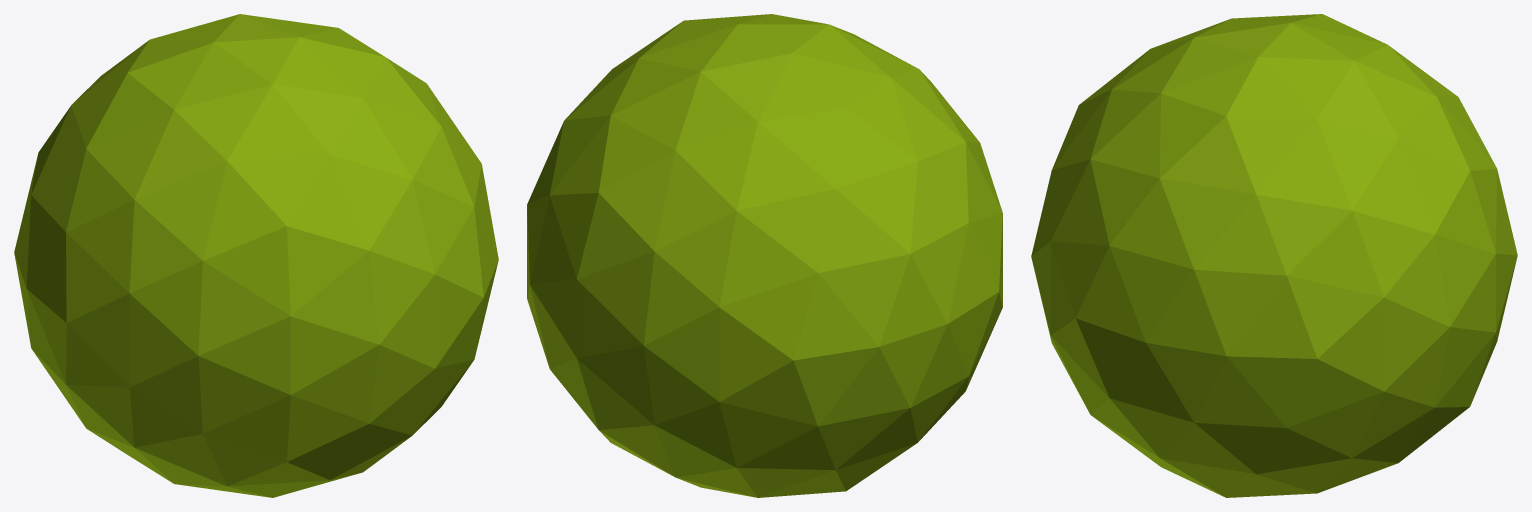
Rendered from bullet.obj.
3 renders of one model, left to right at view 1: azimuth 30°, elevation 25°; view 2: azimuth 150°, elevation 25°; view 3: azimuth 270°, elevation 25°, orthographic.
Visible parts, largest first — view 1: ColobotMesh_1_ColobotMesh_; view 2: ColobotMesh_1_ColobotMesh_; view 3: ColobotMesh_1_ColobotMesh_.
Boxes of the visible parts, bbox=[...] form: ColobotMesh_1_ColobotMesh_: bbox=[14, 14, 498, 497]; ColobotMesh_1_ColobotMesh_: bbox=[527, 14, 1002, 497]; ColobotMesh_1_ColobotMesh_: bbox=[1031, 14, 1517, 497].
Bounding box in the file's own units: 2.36 × 2.31 × 2.36.
